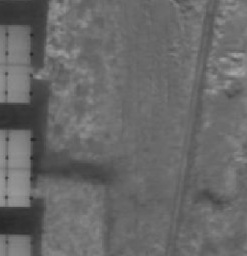solar: (4, 23, 33, 65), (4, 62, 33, 104), (4, 127, 33, 169), (4, 166, 33, 208)
